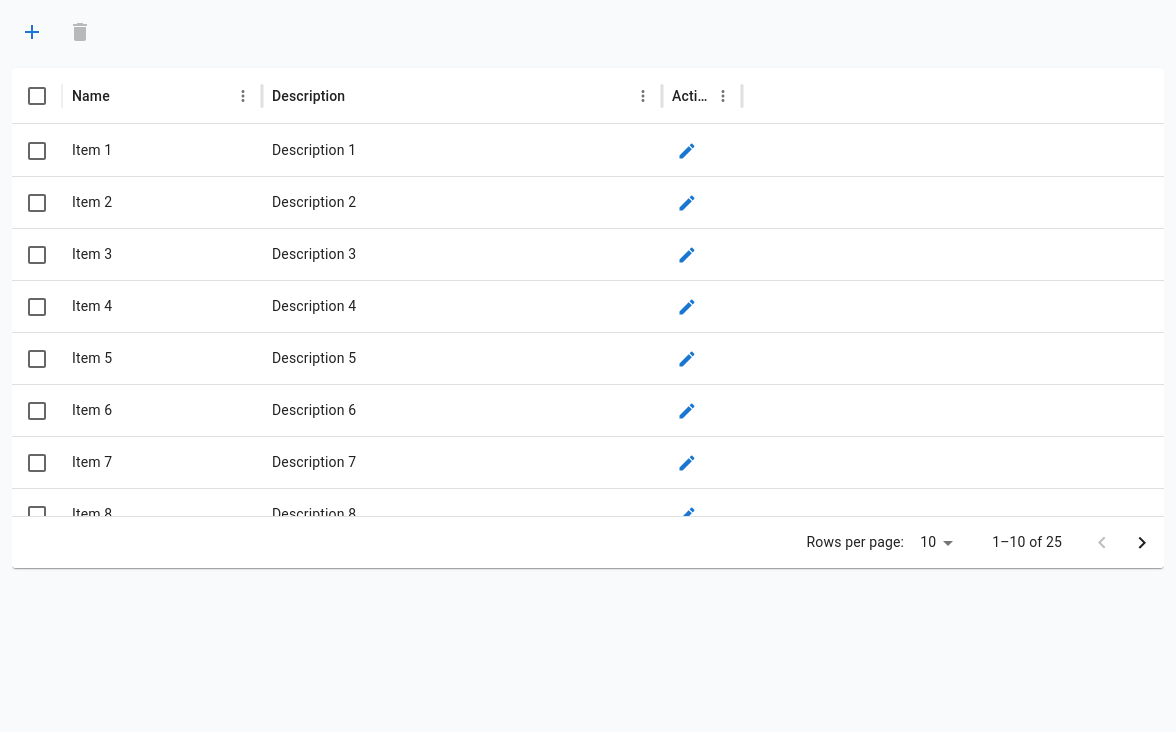
DataGridClient › Pagination › enables both buttons when on middle page
What coordinates should you click on to do the following:
click the button named "next page"
I would click on:
 (1142, 542)
Its box is [1122,522,1162,562].
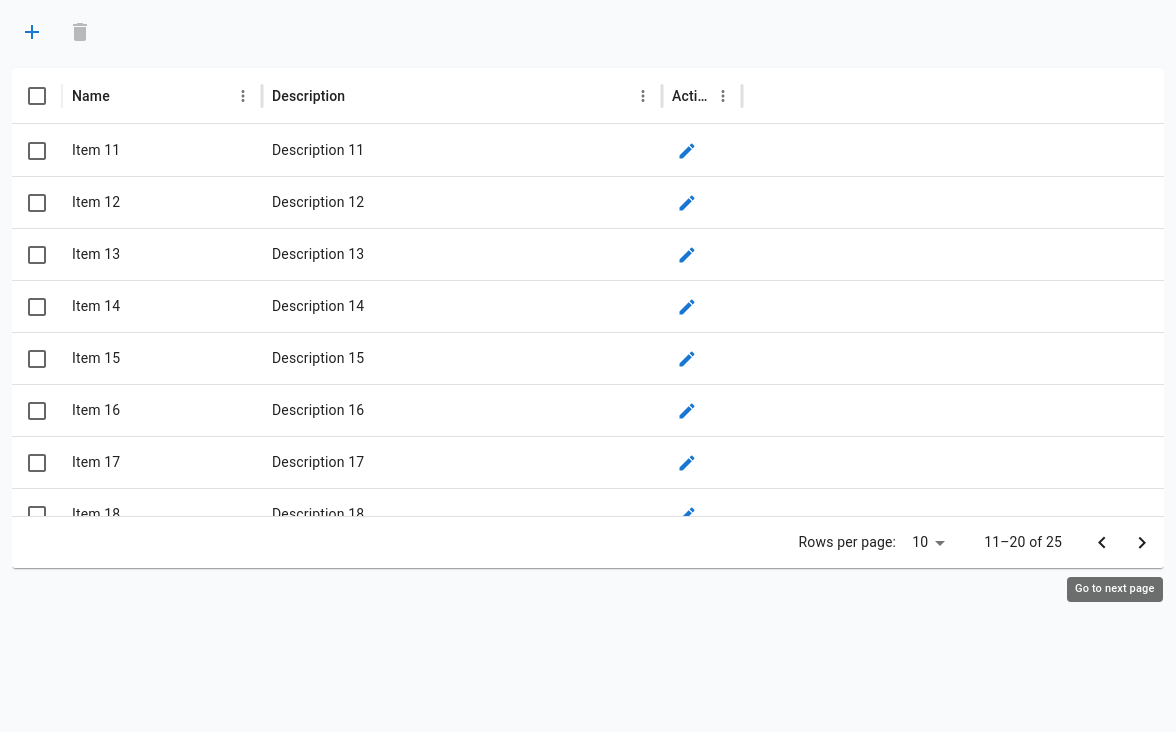
Now the button named "previous page" is enabled, box [1082,522,1122,562]
